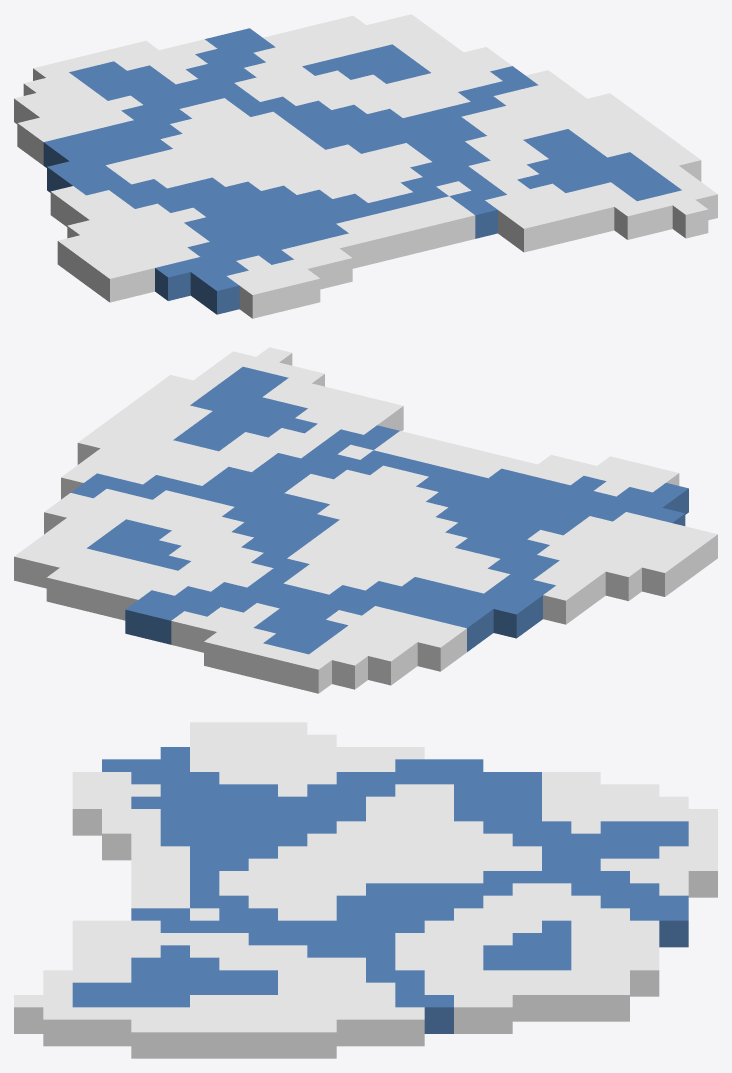
File: pond2.obj
The picture shows the model from 3 angles, top to bottom: view 1: azimuth 30°, elevation 25°; view 2: azimuth 150°, elevation 25°; view 3: azimuth 270°, elevation 25°; orthographic projection. The views are drawn at different scales.
Size of the model in its own units: 25 by 1 by 24.
1 material, 1 textured.
